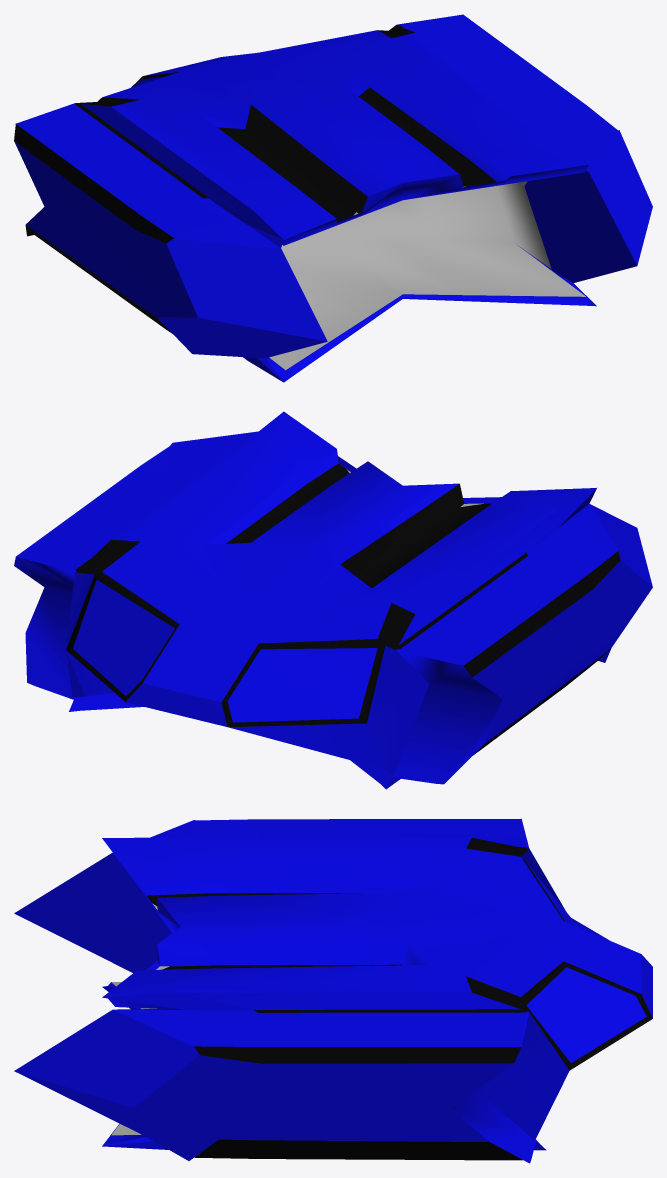
File: Thruster.fbx
3 views of the same model, one above another, from view 1: azimuth 30°, elevation 25°; view 2: azimuth 150°, elevation 25°; view 3: azimuth 270°, elevation 25° (orthographic). The views are drawn at different scales.
Visible parts, largest first — view 1: pCube1; view 2: pCube1; view 3: pCube1.
Part boxes in pixels (bbox=[...]): pCube1: bbox=[14, 14, 652, 382]; pCube1: bbox=[14, 411, 652, 789]; pCube1: bbox=[14, 818, 652, 1163].
Size of the model in its own units: 1.42 by 0.4467 by 1.65.
